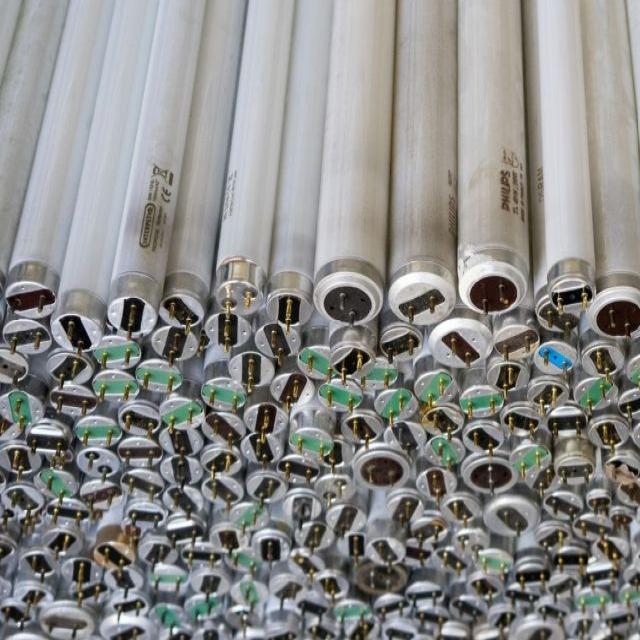electronic: (0, 256, 639, 639)
